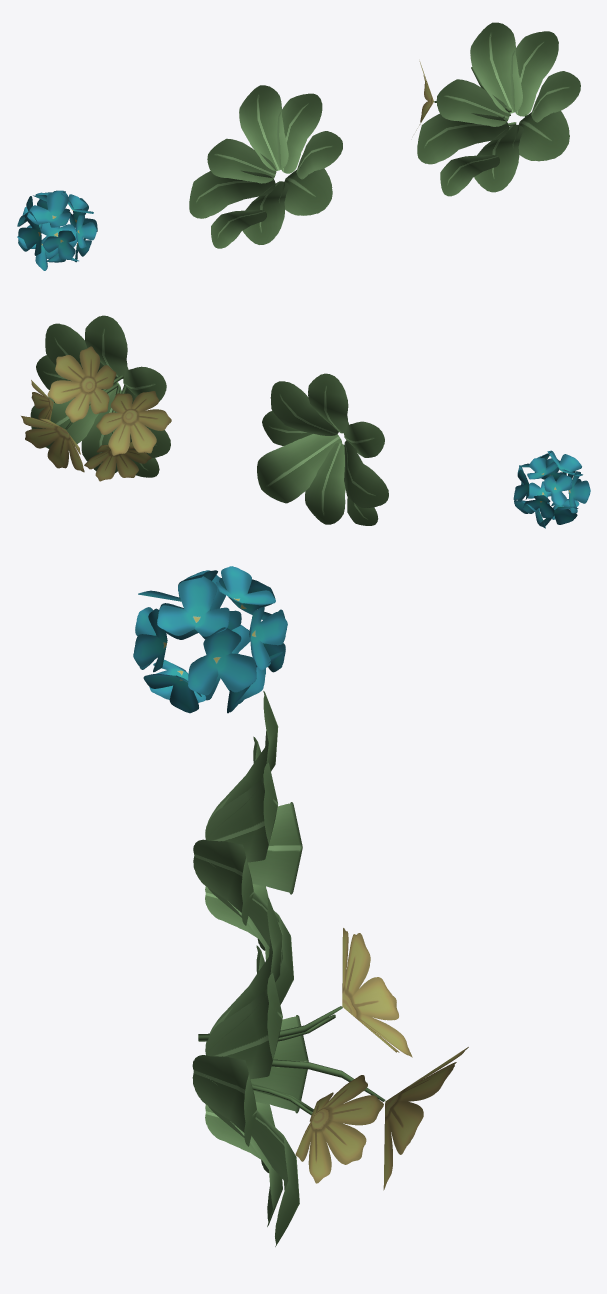
File: FlowerBushes1fix.fbx
The picture shows the model from 3 angles, top to bottom: view 1: azimuth 30°, elevation 25°; view 2: azimuth 150°, elevation 25°; view 3: azimuth 270°, elevation 25°; orthographic projection. The views are drawn at different scales.
Parts seen in each view (by area): view 1: Plant_Flowers, Plant_2, Petals_1; view 2: Plant_Flowers, Plant_2, Petals_1; view 3: Plant_Flowers, Petals_1, Plant_2.
Part boxes in pixels (box(x1,y1,x2,y2)): Plant_Flowers: box(416, 22, 580, 196); Plant_2: box(189, 85, 342, 248); Petals_1: box(17, 190, 97, 270); Plant_Flowers: box(21, 315, 171, 481); Plant_2: box(257, 373, 388, 525); Petals_1: box(513, 450, 590, 528); Plant_Flowers: box(192, 896, 468, 1246); Petals_1: box(133, 566, 287, 713); Plant_2: box(193, 691, 302, 1004).
Bounding box in the file's own units: 509 × 148 × 140.
